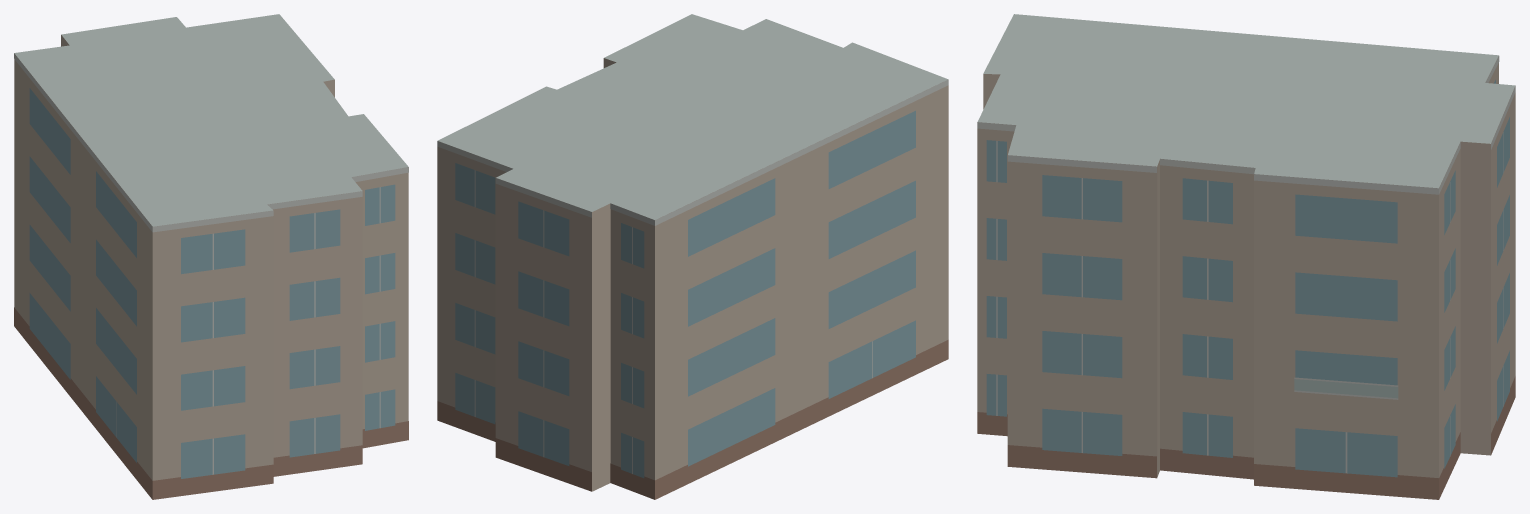
The model's file is survey-upis-32958880.glb.
The picture shows the model from 3 angles, left to right: view 1: azimuth 30°, elevation 25°; view 2: azimuth 150°, elevation 25°; view 3: azimuth 270°, elevation 25°; orthographic projection. The views are drawn at different scales.
Parts seen in each view (by area): view 1: survey-upis-32958880.tmp; view 2: survey-upis-32958880.tmp; view 3: survey-upis-32958880.tmp.
Part boxes in pixels (left/top/right/bottom): survey-upis-32958880.tmp: left=14, top=14, right=408, bottom=499; survey-upis-32958880.tmp: left=437, top=14, right=948, bottom=499; survey-upis-32958880.tmp: left=977, top=14, right=1515, bottom=499.
Size of the model in its own units: 14.04 by 11.7 by 18.32.
